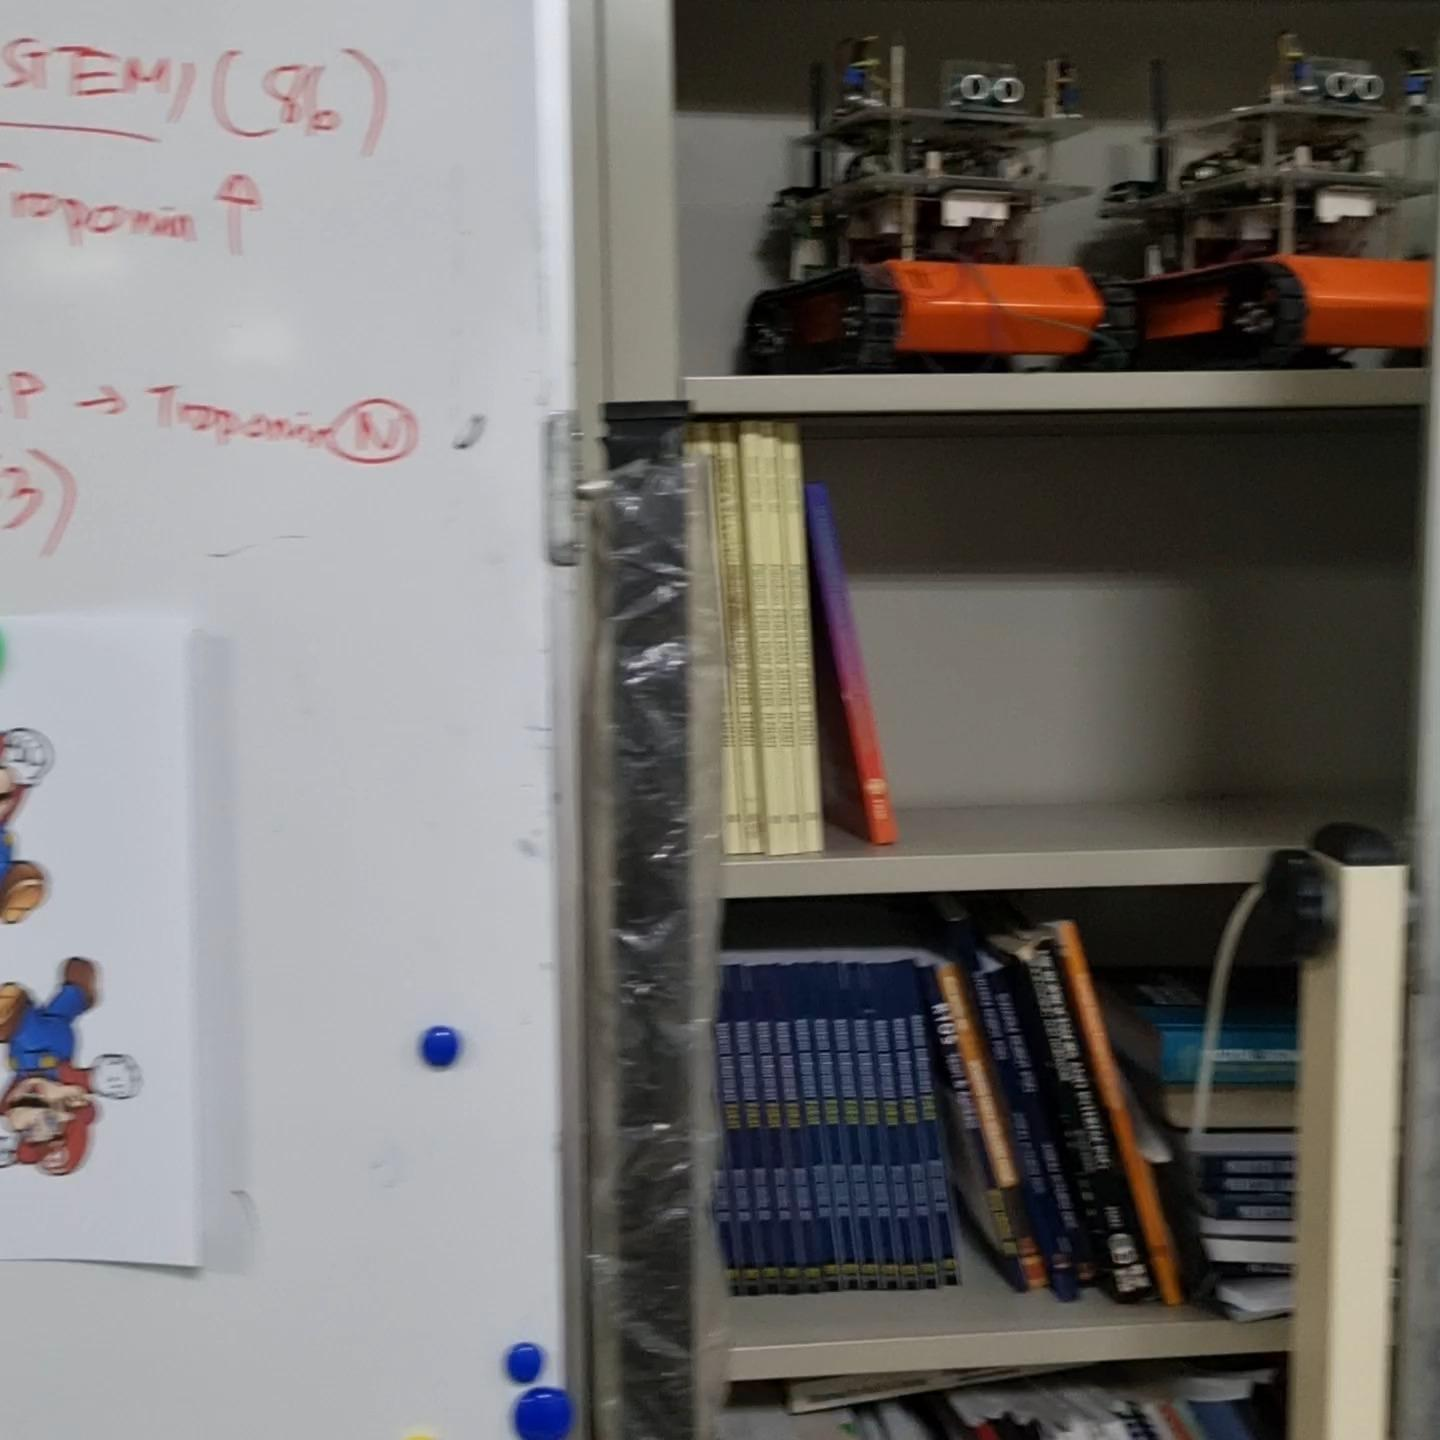mario: (0, 952, 152, 1192), (0, 725, 62, 932)
